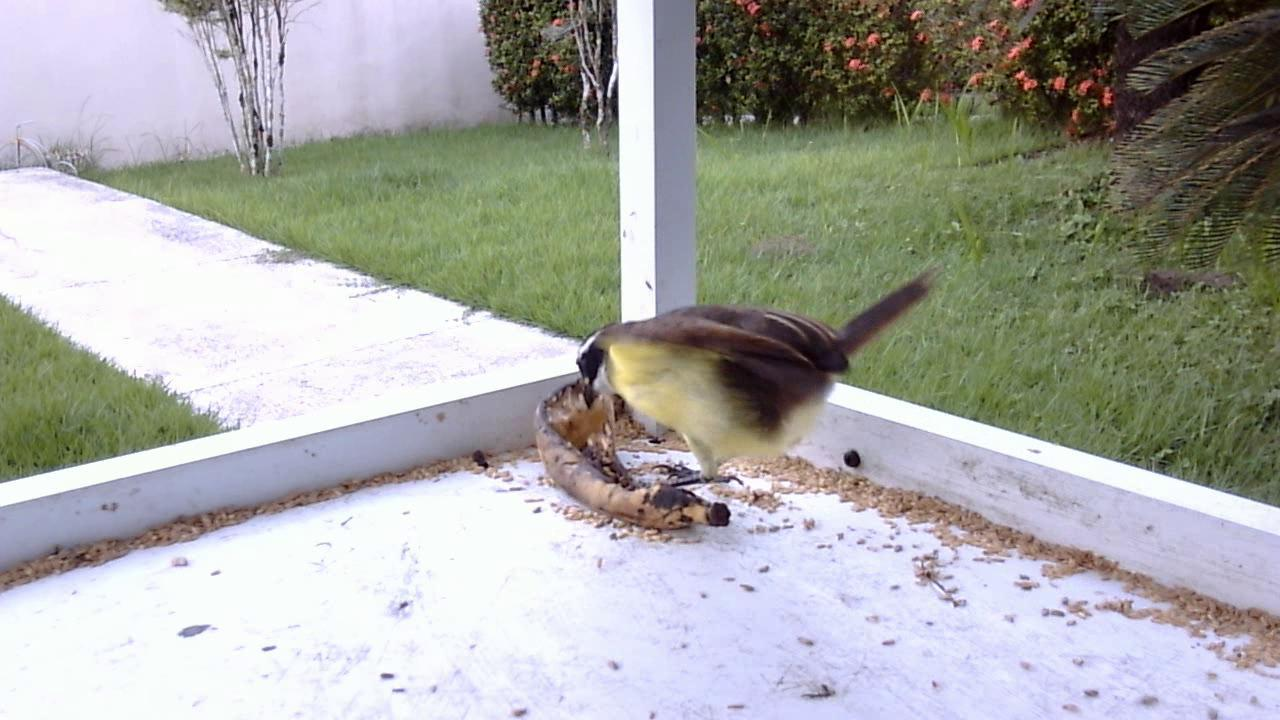bem_te_vi: (560, 267, 952, 530)
